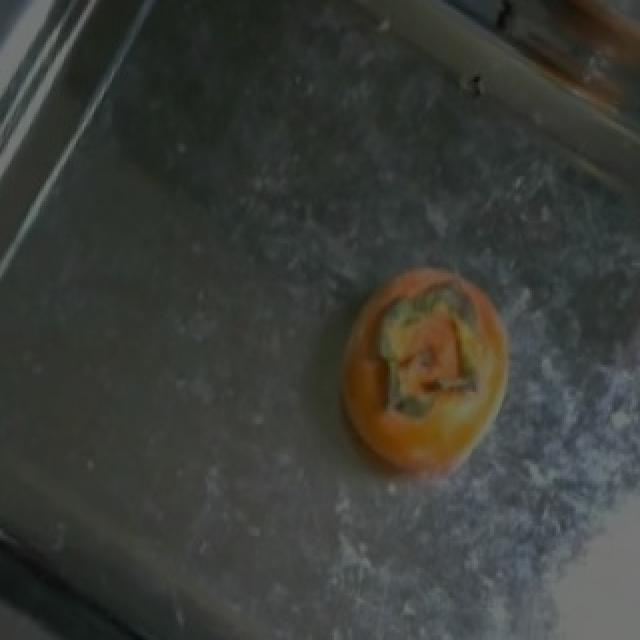Fruit: (312, 248, 532, 504)
